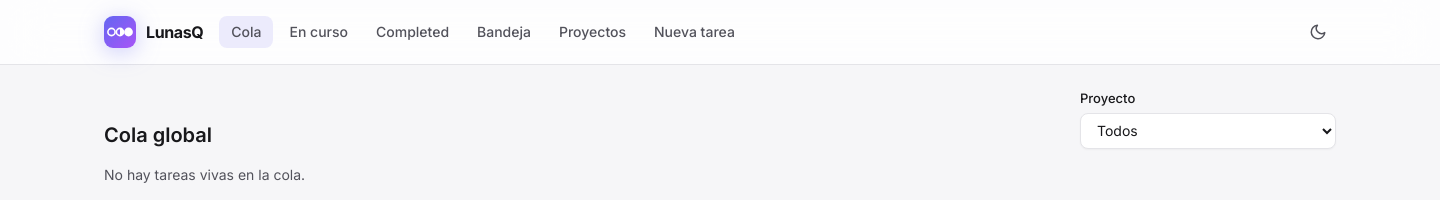
pestaña En curso › el enlace En curso de la navegación lleva a /in-progress y queda activo
The image size is (1440, 200).
Click the link "En curso".
click(319, 32)  # box top-left (290, 23), bottom-right (348, 40)
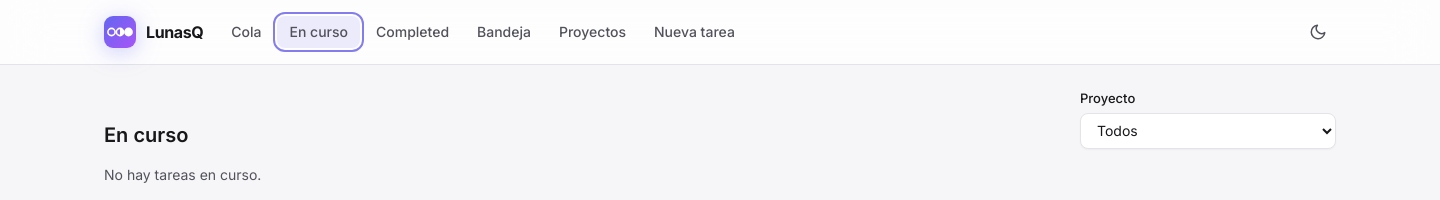
Now the heading "En curso" is shown, box top-left (104, 120), bottom-right (188, 148)
